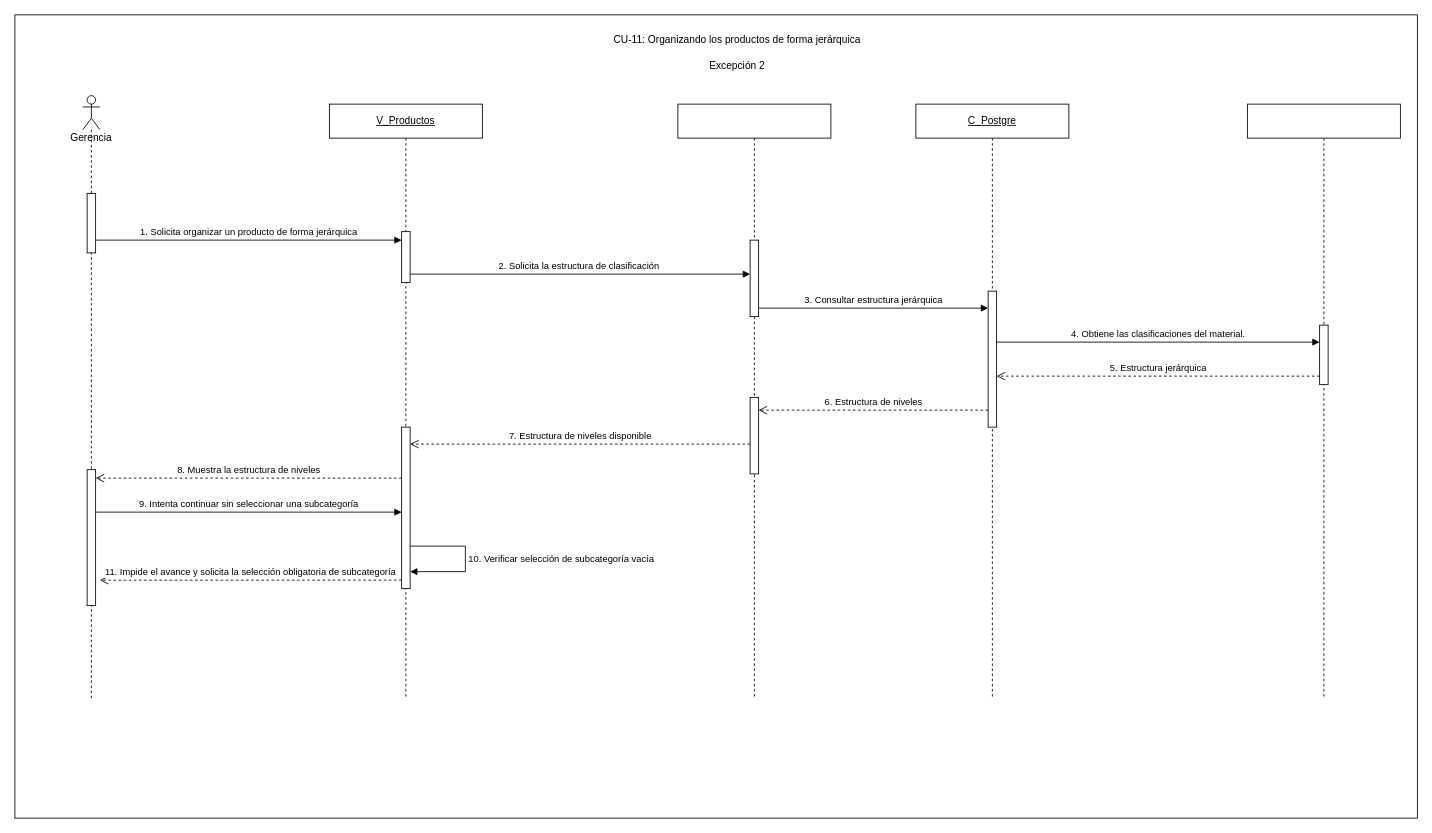
Some shapes in this 1432 by 833 pixel diagram are drawn without their labels. Each missing label, with the centre of its shape:
C_materiales: pixel 754 401
material: pixel 1323 401
